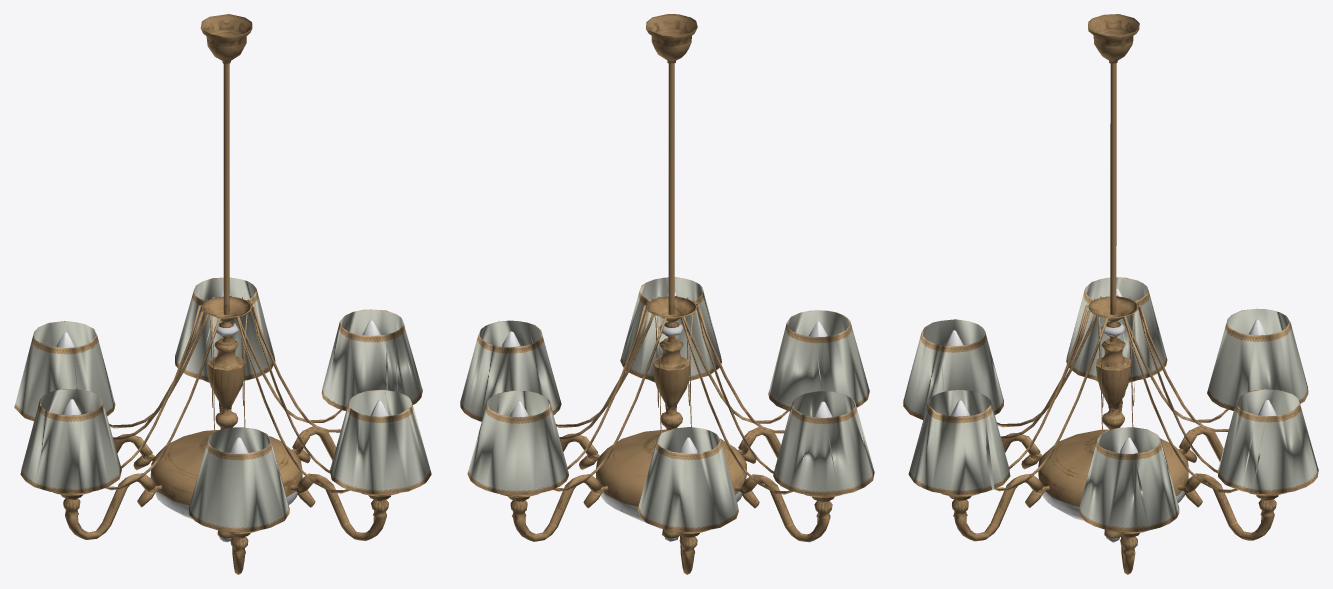
File: leuchter.glb
The picture shows the model from 3 angles, left to right: view 1: azimuth 30°, elevation 25°; view 2: azimuth 150°, elevation 25°; view 3: azimuth 270°, elevation 25°; orthographic projection.
Visible parts, largest first — view 1: Chandelier_02; view 2: Chandelier_02; view 3: Chandelier_02.
Part boxes in pixels (x1,y1,x2,y2): Chandelier_02: (14,14,431,574); Chandelier_02: (460,14,874,574); Chandelier_02: (903,14,1318,574).
Size of the model in its own units: 0.6778 by 0.848 by 0.6182.
Materials: 2 (1 with a texture image).
